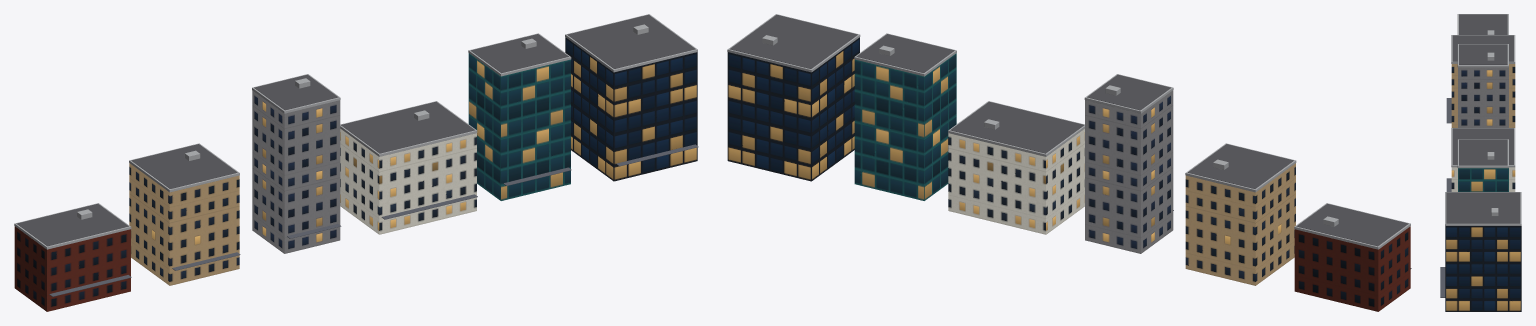
The model's file is buildings.glb.
The picture shows the model from 3 angles, left to right: view 1: azimuth 30°, elevation 25°; view 2: azimuth 150°, elevation 25°; view 3: azimuth 270°, elevation 25°; orthographic projection. The views are drawn at different scales.
Visible parts, largest first — view 1: Building_5, Building_3, Building_4, Building_2, Building_1, Building_0; view 2: Building_5, Building_3, Building_4, Building_2, Building_1, Building_0; view 3: Building_5, Building_2, Building_4, Building_1, Building_3, Building_0.
Boxes of the visible parts, box(x1,y1,x2,y2) form: Building_5: box(565, 14, 698, 181); Building_3: box(340, 101, 477, 234); Building_4: box(468, 33, 571, 200); Building_2: box(252, 74, 341, 253); Building_1: box(129, 143, 240, 285); Building_0: box(14, 203, 131, 311); Building_5: box(727, 14, 860, 181); Building_3: box(948, 101, 1084, 234); Building_4: box(854, 33, 956, 200); Building_2: box(1084, 74, 1173, 253); Building_1: box(1185, 143, 1296, 285); Building_0: box(1294, 203, 1411, 311); Building_5: box(1440, 192, 1521, 311); Building_2: box(1457, 44, 1508, 127); Building_4: box(1457, 139, 1508, 191); Building_1: box(1446, 35, 1515, 127); Building_3: box(1446, 128, 1515, 191); Building_0: box(1457, 14, 1508, 34).
Bounding box in the file's own units: 138 × 30.4 × 19.25.
Materials: 9 (6 with a texture image).
